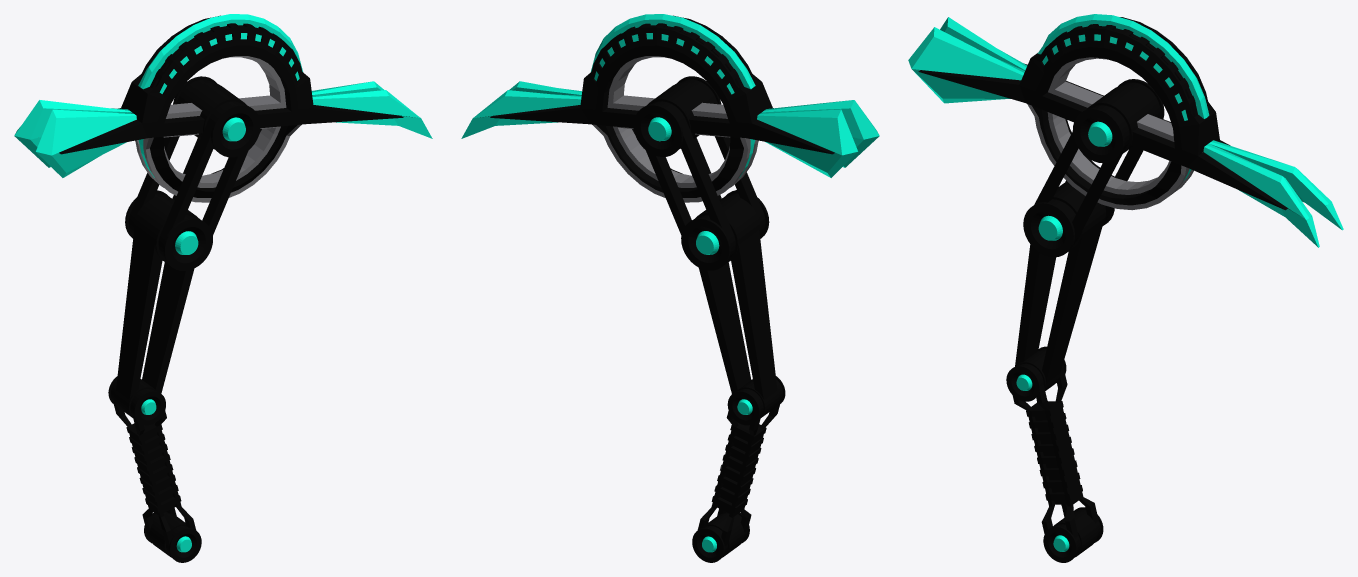
The model's file is pickaxe 5 Fagerone.fbx.
The picture shows the model from 3 angles, left to right: view 1: azimuth 30°, elevation 25°; view 2: azimuth 150°, elevation 25°; view 3: azimuth 330°, elevation 25°; orthographic projection. The views are drawn at different scales.
Visible parts, largest first — view 1: Cylinder.001; view 2: Cylinder.001; view 3: Cylinder.001.
Part boxes in pixels (left/top/right/bottom): Cylinder.001: left=14, top=14, right=432, bottom=562; Cylinder.001: left=461, top=14, right=879, bottom=562; Cylinder.001: left=908, top=14, right=1343, bottom=562.
Bounding box in the file's own units: 3.3 × 4.19 × 0.5875.
2 materials, 2 textured.
